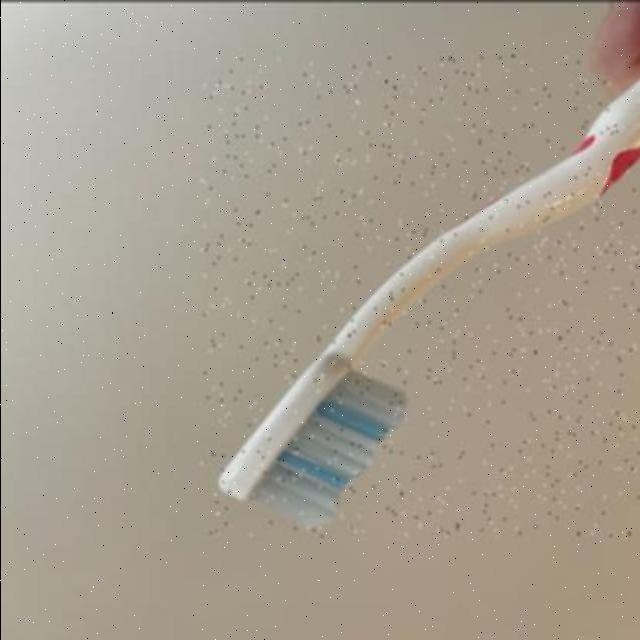toothbrush: (200, 54, 640, 536)
